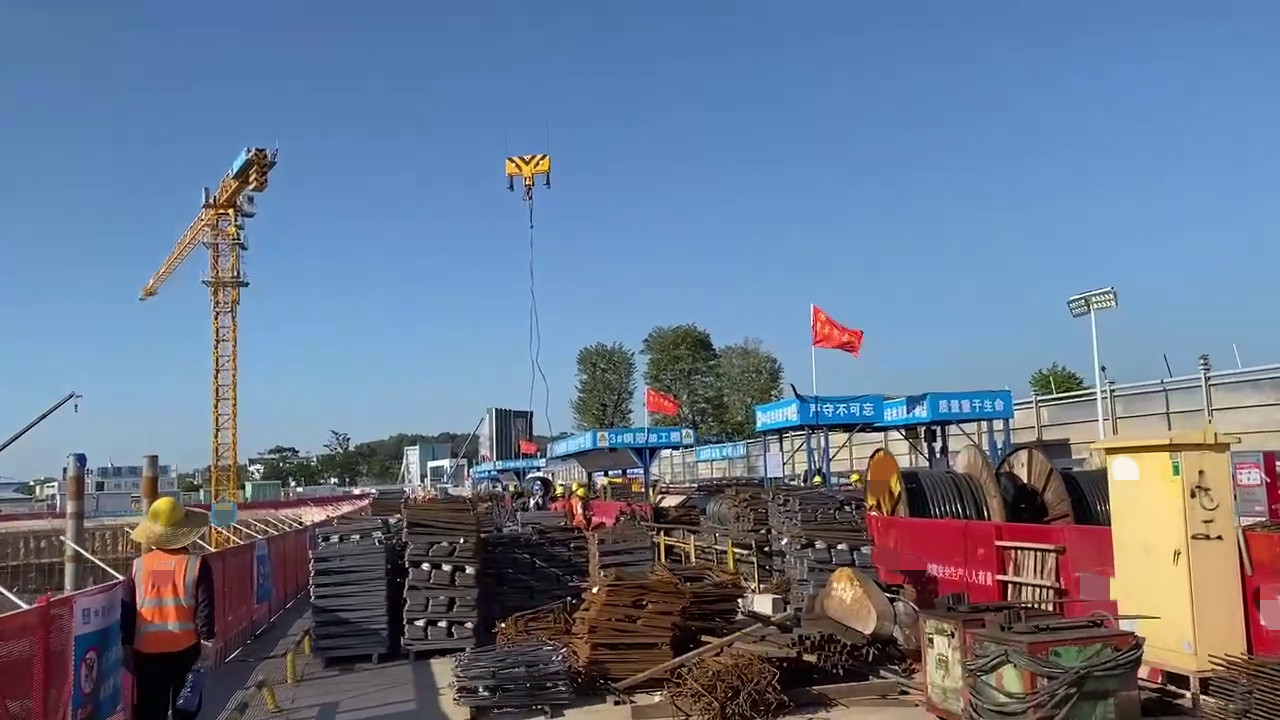ebox: (1109, 442, 1246, 658)
fence: (867, 508, 1112, 624), (4, 579, 134, 720), (212, 529, 312, 660), (1247, 529, 1280, 654)
helmet: (147, 495, 185, 522)
hook: (503, 151, 550, 184)
person: (133, 496, 213, 716), (574, 488, 591, 533), (567, 480, 582, 522), (551, 486, 567, 516)
rebar: (393, 476, 484, 657), (310, 519, 395, 651), (579, 573, 682, 680), (767, 490, 837, 613), (663, 647, 770, 720), (1185, 644, 1277, 720), (779, 618, 876, 684), (504, 605, 608, 665)
slogan: (75, 640, 121, 719), (929, 393, 1010, 417), (926, 560, 992, 587), (805, 399, 882, 420)
vest: (135, 552, 200, 657)
